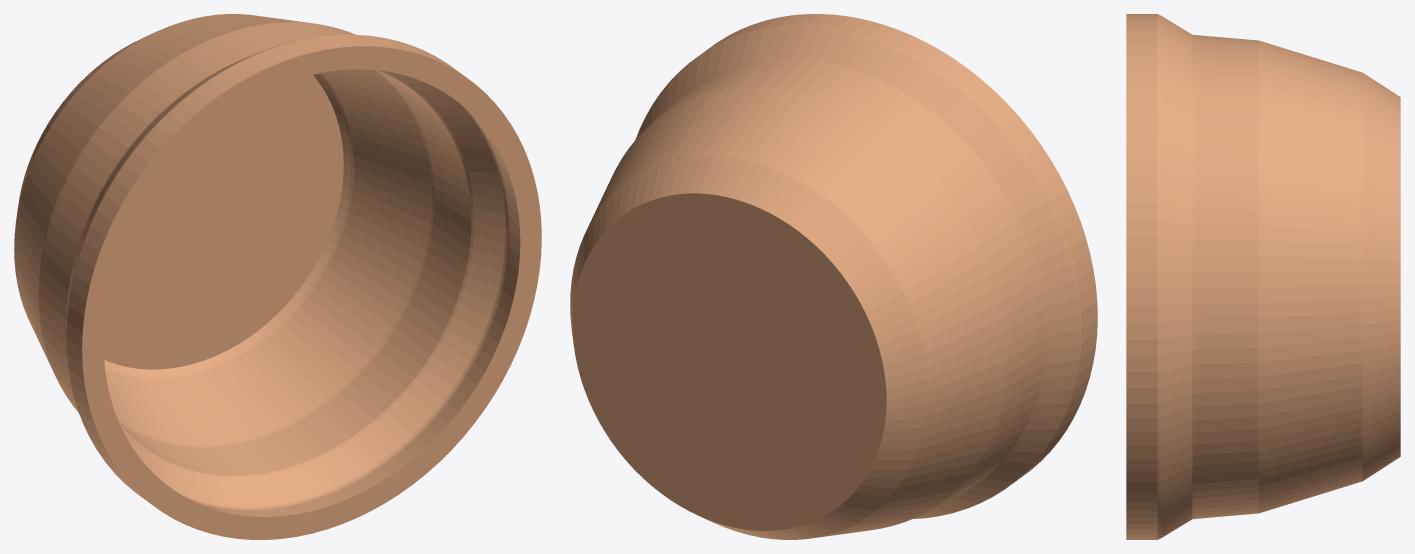
File: Pot_04_Low_Wide_Planter.glb
The picture shows the model from 3 angles, left to right: view 1: azimuth 30°, elevation 25°; view 2: azimuth 150°, elevation 25°; view 3: azimuth 270°, elevation 25°; orthographic projection.
Parts seen in each view (by area): view 1: Pot_04_Low_Wide_Planter; view 2: Pot_04_Low_Wide_Planter; view 3: Pot_04_Low_Wide_Planter.
Boxes of the visible parts, <box> form: Pot_04_Low_Wide_Planter: <box>14,14,541,539</box>; Pot_04_Low_Wide_Planter: <box>570,14,1097,539</box>; Pot_04_Low_Wide_Planter: <box>1126,14,1400,539</box>.
Bounding box in the file's own units: 0.278 × 0.278 × 0.145.
